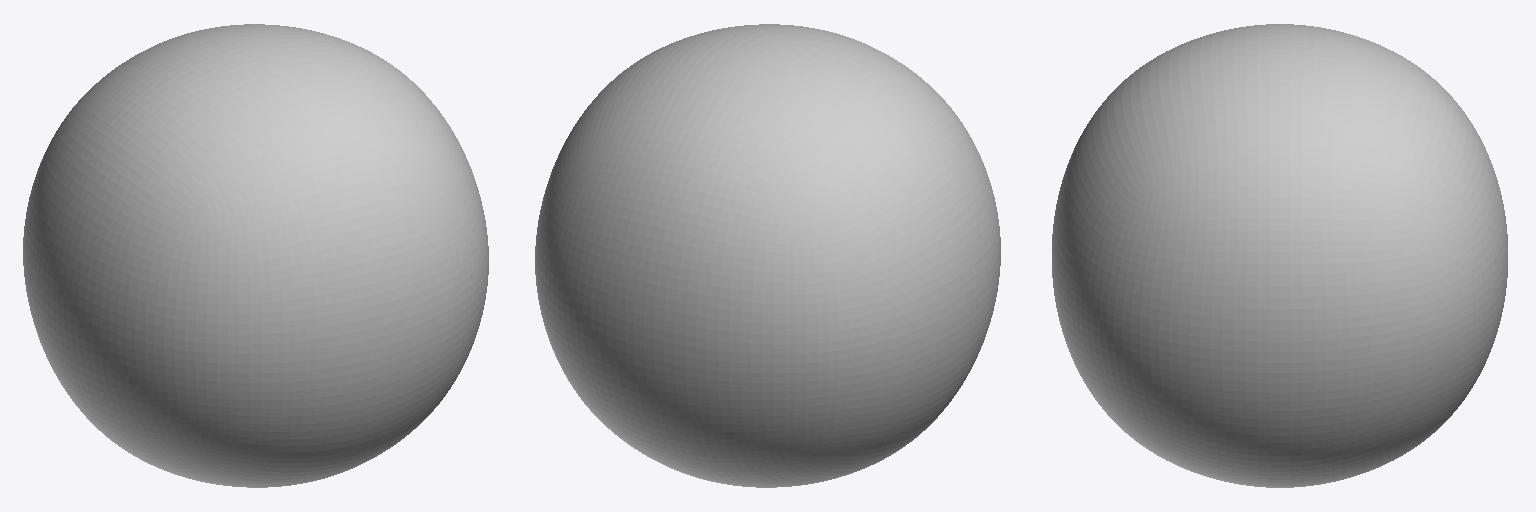
Rendered from cube_subdiv_5.obj.
3 views of the same model, side by side, from view 1: azimuth 30°, elevation 25°; view 2: azimuth 150°, elevation 25°; view 3: azimuth 270°, elevation 25° (orthographic).
Parts seen in each view (by area): view 1: Cube_Cube.010; view 2: Cube_Cube.010; view 3: Cube_Cube.010.
Boxes of the visible parts, x1=… form: Cube_Cube.010: x1=23, y1=24, x2=488, y2=487; Cube_Cube.010: x1=535, y1=24, x2=1000, y2=487; Cube_Cube.010: x1=1052, y1=24, x2=1507, y2=487.
Size of the model in its own units: 1.68 by 1.68 by 1.68.